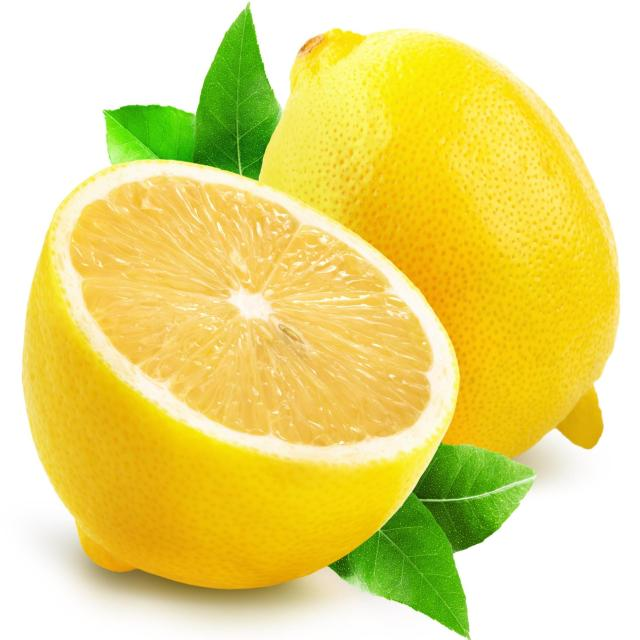lemon: (15, 152, 468, 594)
